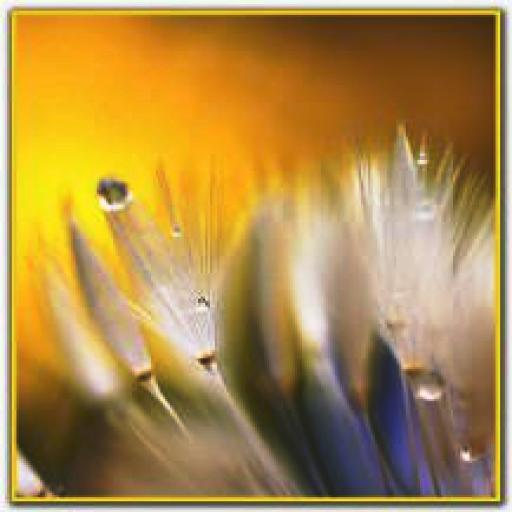dandelion: (19, 145, 493, 489)
